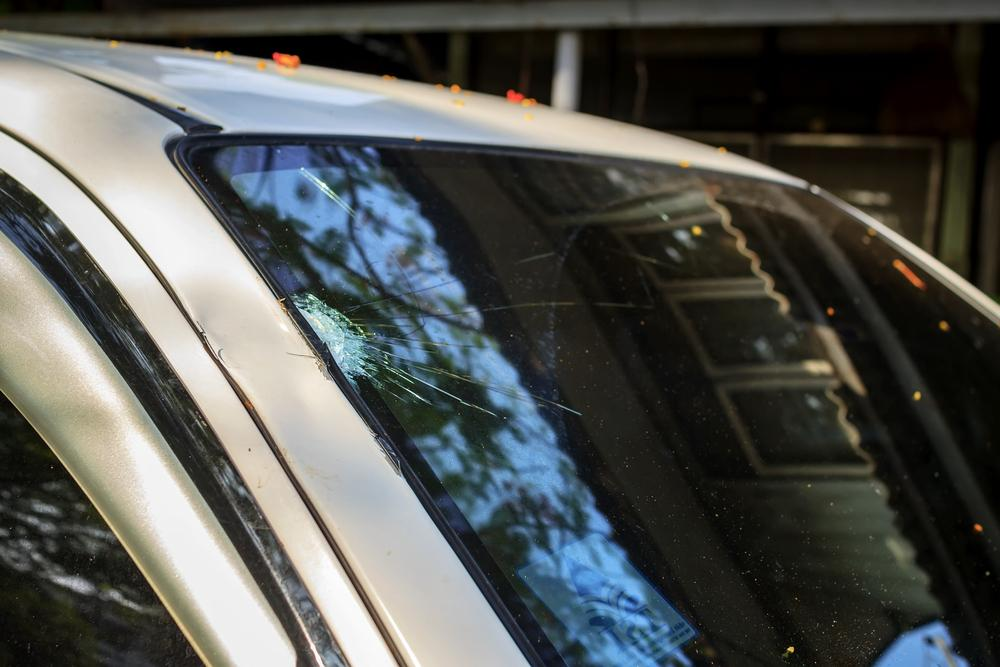dent: (191, 279, 395, 531)
glass shatter: (187, 140, 1000, 667)
